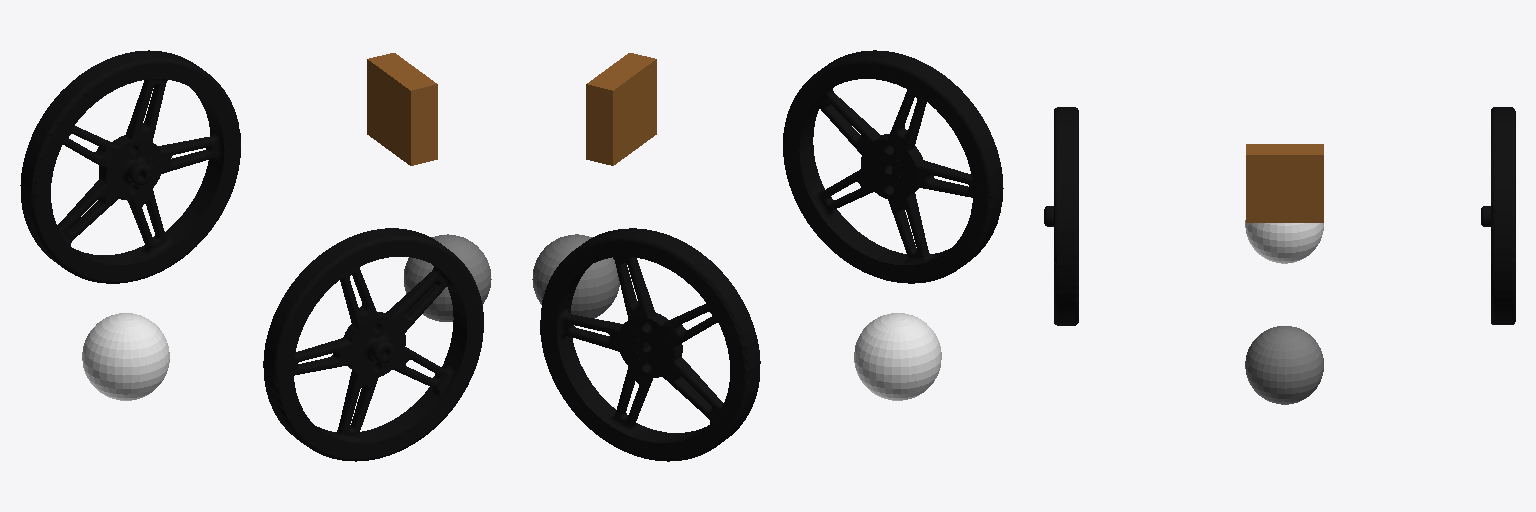
robot.urdf — romi:
<?xml version="1.0"?>
<robot name="romi">
  
  <!-- ========================================== -->
  <!-- BASE LINK (CHASSIS) -->
  <!-- ========================================== -->
  <link name="base_link">
    <visual>
      <!-- Match kinematics/origin from romi.urdf "-0.163 -0.0745 -0.036 -->
      <origin xyz="0.05 +0.155 -0.06" rpy="1.5708 0 -1.5708"/>
      <geometry>
        <!-- STL mesh path relative to this URDF file -->
        <mesh filename="meshes/visual/chasis.stl" scale="0.001 0.001 0.001"/>
      </geometry>
      <material name="blue">
        <color rgba="0.2 0.2 0.8 1.0"/>
      </material>
    </visual>
    <collision>
      <origin xyz="0 0 0.02" rpy="0 0 0"/>
      <geometry>
        <box size="0.16 0.14 0.04"/>
      </geometry>
    </collision>
    <inertial>
      <origin xyz="0 0 0.02" rpy="0 0 0"/>
      <mass value="0.8"/>
      <inertia ixx="0.00146" ixy="0.0" ixz="0.0" 
               iyy="0.00189" iyz="0.0" 
               izz="0.00288"/>
    </inertial>
  </link>

  <!-- ========================================== -->
  <!-- LEFT WHEEL -->
  <!-- ========================================== -->
  <link name="left_wheel">
    <visual>
      <!-- Match left_wheel link origin from romi.urdf -->
      <origin xyz="0 0 0" rpy="0 1.5708 1.5708"/>
      <geometry>
        <!-- STL mesh path relative to this URDF file -->
        <mesh filename="meshes/visual/wheel.stl" scale="0.001 0.001 0.001"/>
      </geometry>
      <material name="black">
        <color rgba="0.1 0.1 0.1 1.0"/>
      </material>
    </visual>
    <collision>
      <origin xyz="0 0 0" rpy="0 0 0"/>
      <geometry>
        <cylinder radius="0.035" length="0.015"/>
      </geometry>
    </collision>
    <inertial>
      <origin xyz="0 0 0" rpy="0 0 0"/>
      <mass value="0.05"/>
      <inertia ixx="3.125e-05" ixy="0.0" ixz="0.0"
               iyy="3.125e-05" iyz="0.0"
               izz="6.125e-05"/>
    </inertial>
  </link>

  <joint name="left_wheel_joint" type="continuous">
    <parent link="base_link"/>
    <child link="left_wheel"/>
    <!-- Copy joint transform from romi.urdf -->
    <origin xyz="0 -0.07 0.035" rpy="1.5708 0 0"/>
    <axis xyz="0 0 1"/>
    <limit effort="1.0" velocity="10.0"/>
  </joint>

  <!-- ========================================== -->
  <!-- RIGHT WHEEL -->
  <!-- ========================================== -->
  <link name="right_wheel">
    <visual>
      <!-- Match right_wheel link origin from romi.urdf -->
      <!-- Flipped 180 degrees around Z-axis (rotating axis) -->
      <origin xyz="0 0 0" rpy="0 1.5708 4.71239"/>
      <geometry>
        <!-- STL mesh path relative to this URDF file -->
        <mesh filename="meshes/visual/wheel.stl" scale="0.001 0.001 0.001"/>
      </geometry>
      <material name="black">
        <color rgba="0.1 0.1 0.1 1.0"/>
      </material>
    </visual>
    <collision>
      <origin xyz="0 0 0" rpy="0 0 0"/>
      <geometry>
        <cylinder radius="0.035" length="0.015"/>
      </geometry>
    </collision>
    <inertial>
      <origin xyz="0 0 0" rpy="0 0 0"/>
      <mass value="0.05"/>
      <inertia ixx="3.125e-05" ixy="0.0" ixz="0.0"
               iyy="3.125e-05" iyz="0.0"
               izz="6.125e-05"/>
    </inertial>
  </link>

  <joint name="right_wheel_joint" type="continuous">
    <parent link="base_link"/>
    <child link="right_wheel"/>
    <!-- Copy joint transform from romi.urdf -->
    <origin xyz="0.0 0.07 0.035" rpy="1.5708 0 0"/>
    <axis xyz="0 0 1"/>
    <limit effort="1.0" velocity="10.0"/>
  </joint>

  <!-- ========================================== -->
  <!-- FRONT CASTER BALL -->
  <!-- ========================================== -->
  <link name="front_caster_ball">
    <visual>
      <origin xyz="0 0 0" rpy="0 0 0"/>
      <geometry>
        <!-- Simple primitive visual (no STL mesh file yet) -->
        <sphere radius="0.0127"/>
      </geometry>
      <material name="gray">
        <color rgba="0.5 0.5 0.5 1.0"/>
      </material>
    </visual>
    <collision>
      <origin xyz="0 0 0" rpy="0 0 0"/>
      <geometry>
        <sphere radius="0.0127"/>
      </geometry>
    </collision>
    <inertial>
      <origin xyz="0 0 0" rpy="0 0 0"/>
      <mass value="0.0135"/>
      <inertia ixx="4.34e-07" ixy="0.0" ixz="0.0"
               iyy="4.34e-07" iyz="0.0"
               izz="4.34e-07"/>
    </inertial>
  </link>

  <joint name="front_caster_ball_joint" type="fixed">
    <parent link="base_link"/>
    <child link="front_caster_ball"/>
    <origin xyz="0.065 0 0.0127" rpy="0 0 0"/>
  </joint>

  <!-- ========================================== -->
  <!-- REAR CASTER BALL -->
  <!-- ========================================== -->
  <link name="rear_caster_ball">
    <visual>
      <origin xyz="0 0 0" rpy="0 0 0"/>
      <geometry>
        <!-- Simple primitive visual (no STL mesh file yet) -->
        <sphere radius="0.0127"/>
      </geometry>
      <material name="white">
        <color rgba="0.9 0.9 0.9 1.0"/>
      </material>
    </visual>
    <collision>
      <origin xyz="0 0 0" rpy="0 0 0"/>
      <geometry>
        <sphere radius="0.0127"/>
      </geometry>
    </collision>
    <inertial>
      <origin xyz="0 0 0" rpy="0 0 0"/>
      <mass value="0.0135"/>
      <inertia ixx="4.34e-07" ixy="0.0" ixz="0.0"
               iyy="4.34e-07" iyz="0.0"
               izz="4.34e-07"/>
    </inertial>
  </link>

  <joint name="rear_caster_ball_joint" type="fixed">
    <parent link="base_link"/>
    <child link="rear_caster_ball"/>
    <origin xyz="-0.042 0 0.0127" rpy="0 0 0"/>
  </joint>

  <!-- ========================================== -->
  <!-- SENSOR MOUNT (OPTIONAL) -->
  <!-- ========================================== -->
  <link name="sensor_mount">
    <!-- Visual removed to hide the green box -->
    <inertial>
      <origin xyz="0 0 0.015" rpy="0 0 0"/>
      <mass value="0.05"/>
      <inertia ixx="3.667e-05" ixy="0.0" ixz="0.0"
               iyy="3.667e-05" iyz="0.0"
               izz="6.667e-05"/>
    </inertial>
  </link>

  <joint name="sensor_mount_joint" type="fixed">
    <parent link="base_link"/>
    <child link="sensor_mount"/>
    <origin xyz="0.0 0 0.04" rpy="0 0 0"/>
  </joint>

  <!-- ========================================== -->
  <!-- IMU LINK (OPTIONAL SENSOR) -->
  <!-- ========================================== -->
  <link name="imu_link">
    <visual>
      <!-- Rotate to lay the board flat (horizontal) - 90 degrees around X axis -->
      <!-- Adjust position to center the board on the sensor mount -->
      <origin xyz="0.095 0.102 -0.125" rpy="1.5708 0 -1.5708"/>
      <geometry>
        <!-- STL mesh path relative to this URDF file -->
        <mesh filename="meshes/visual/control_board.stl" scale="0.001 0.001 0.001"/>
      </geometry>
          <material name="gray">
            <color rgba="0.7 0.7 0.7 1.0"/>
          </material>
    </visual>
    <!-- Collision matching visual to avoid default box -->
    <collision>
      <origin xyz="0.095 0.105 -0.125" rpy="1.5708 0 -1.5708"/>
      <geometry>
        <mesh filename="meshes/visual/control_board.stl" scale="0.001 0.001 0.001"/>
      </geometry>
    </collision>
    <inertial>
      <origin xyz="0 0 0" rpy="0 0 0"/>
      <mass value="0.005"/>
      <inertia ixx="2.292e-07" ixy="0.0" ixz="0.0"
               iyy="2.292e-07" iyz="0.0"
               izz="4.167e-07"/>
    </inertial>
  </link>

  <joint name="imu_joint" type="fixed">
    <parent link="sensor_mount"/>
    <child link="imu_link"/>
    <origin xyz="0 0 0.03" rpy="0 0 0"/>
  </joint>

  <!-- ========================================== -->
  <!-- RASPBERRY PI CAMERA MODULE 2 -->
  <!-- ========================================== -->
  <link name="camera_link">
    <visual>
      <!-- Position box far behind camera (negative X = behind, since camera looks forward along +X) -->
      <!-- Box center at -50mm, with 9mm thickness, front edge at -45.5mm, well behind 12.5mm near plane -->
      <origin xyz="0 0 0" rpy="0 0 0"/>
      <geometry>
        <!-- Raspberry Pi Camera Module 2: ~25mm x 24mm x 9mm -->
        <box size="0.009 0.025 0.024"/>
      </geometry>
      <material name="brown">
        <color rgba="0.6 0.4 0.2 1.0"/>
      </material>
    </visual>
    <inertial>
      <origin xyz="0 0 0" rpy="0 0 0"/>
      <mass value="0.003"/>
      <inertia ixx="1.8e-07" ixy="0.0" ixz="0.0"
               iyy="1.8e-07" iyz="0.0"
               izz="3.6e-07"/>
    </inertial>
  </link>

  <joint name="camera_joint" type="fixed">
    <parent link="sensor_mount"/>
    <child link="camera_link"/>
    <!-- Position camera on sensor mount, facing forward -->
    <origin xyz="0.05 0 0.03" rpy="0 0 0"/>
  </joint>

  <!-- Gazebo Camera Plugin -->
  <gazebo reference="camera_link">
    <sensor type="camera" name="camera">
      <update_rate>30</update_rate>
      <camera>
        <horizontal_fov>1.047</horizontal_fov>
        <image>
          <width>3280</width>
          <height>2464</height>
          <format>R8G8B8</format>
        </image>
        <clip>
          <near>0.05</near>
          <far>100</far>
        </clip>
      </camera>
      <plugin name="camera_controller" filename="libgazebo_ros_camera.so">
        <ros>
          <namespace>/romi</namespace>
          <remapping>image_raw:=camera/image_raw</remapping>
          <remapping>camera_info:=camera/camera_info</remapping>
        </ros>
        <camera_name>camera</camera_name>
        <frame_name>camera_link</frame_name>
        <hack_baseline>0.07</hack_baseline>
        <min_depth>0.05</min_depth>
        <max_depth>100.0</max_depth>
      </plugin>
    </sensor>
  </gazebo>

  <!-- ROS2 Control Hardware Interface -->
  <ros2_control name="GazeboSimSystem" type="system">
    <hardware>
      <plugin>gz_ros2_control/GazeboSimSystem</plugin>
    </hardware>
    <joint name="left_wheel_joint">
      <command_interface name="velocity">
        <param name="min">-10</param>
        <param name="max">10</param>
      </command_interface>
      <state_interface name="position"/>
      <state_interface name="velocity"/>
    </joint>
    <joint name="right_wheel_joint">
      <command_interface name="velocity">
        <param name="min">-10</param>
        <param name="max">10</param>
      </command_interface>
      <state_interface name="position"/>
      <state_interface name="velocity"/>
    </joint>
  </ros2_control>

</robot>

--- What the picture shows (computed from the rendered views, not written in the file) ---
3 views of the same robot in one strip: view 1: azimuth 30°, elevation 25°; view 2: azimuth 150°, elevation 25°; view 3: azimuth 270°, elevation 25° (orthographic).
Model romi with 8 links and 7 joints (2 continuous, 5 fixed), rooted at base_link, posed all joints at 0.
Visible links, largest first — view 1: left_wheel, right_wheel, camera_link, rear_caster_ball, front_caster_ball; view 2: right_wheel, left_wheel, camera_link, rear_caster_ball, front_caster_ball; view 3: camera_link, left_wheel, right_wheel, front_caster_ball, rear_caster_ball.
Boxes of the visible links, left/top/right/bottom form: left_wheel: left=263, top=228, right=483, bottom=461; right_wheel: left=20, top=50, right=240, bottom=283; camera_link: left=367, top=53, right=437, bottom=165; rear_caster_ball: left=82, top=313, right=169, bottom=400; front_caster_ball: left=404, top=234, right=491, bottom=321; right_wheel: left=540, top=228, right=760, bottom=461; left_wheel: left=783, top=50, right=1003, bottom=283; camera_link: left=586, top=53, right=656, bottom=165; rear_caster_ball: left=854, top=313, right=941, bottom=400; front_caster_ball: left=532, top=234, right=619, bottom=318; camera_link: left=1246, top=144, right=1323, bottom=222; left_wheel: left=1044, top=107, right=1078, bottom=325; right_wheel: left=1481, top=107, right=1515, bottom=324; front_caster_ball: left=1245, top=326, right=1323, bottom=404; rear_caster_ball: left=1245, top=220, right=1323, bottom=263.
Size in the robot's own frame: 0.1324 by 0.151 by 0.082 metres.
2 mesh visuals loaded from 3 distinct referenced files (1 binary STL); not drawn: 2 (reference not matched to a file when rendering).